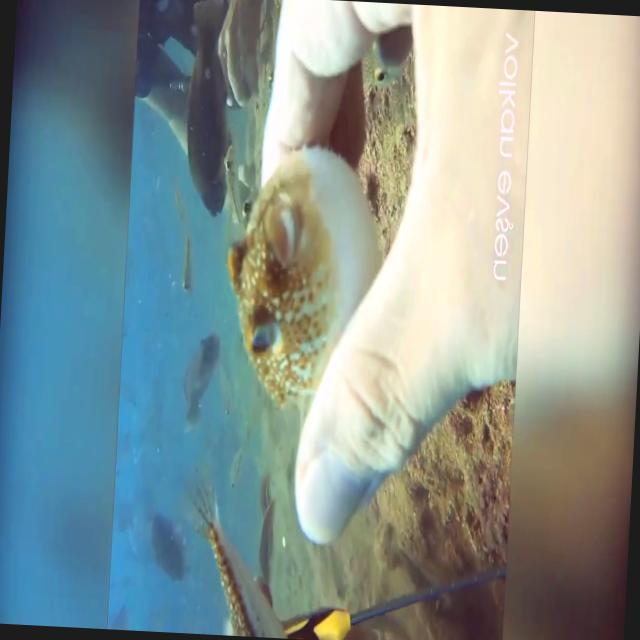Balon Baligi: (219, 143, 386, 411), (168, 460, 294, 638), (220, 146, 244, 224), (181, 232, 196, 294), (229, 443, 242, 488)
